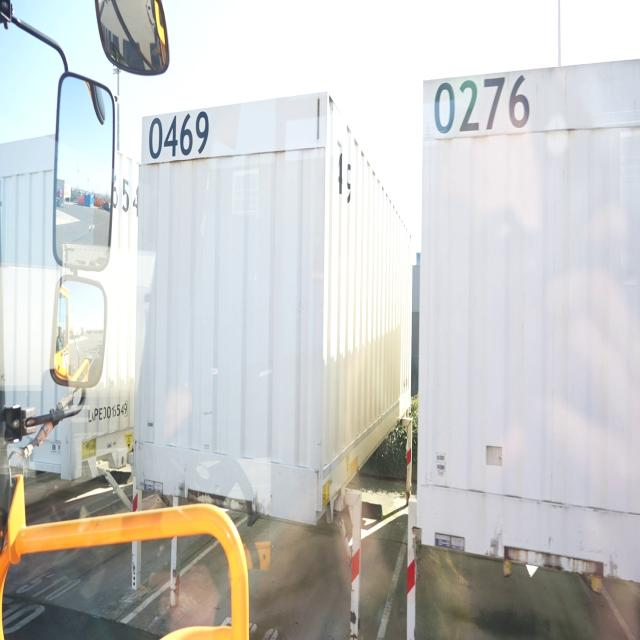Code: (433, 72, 531, 137), (147, 108, 209, 162)
